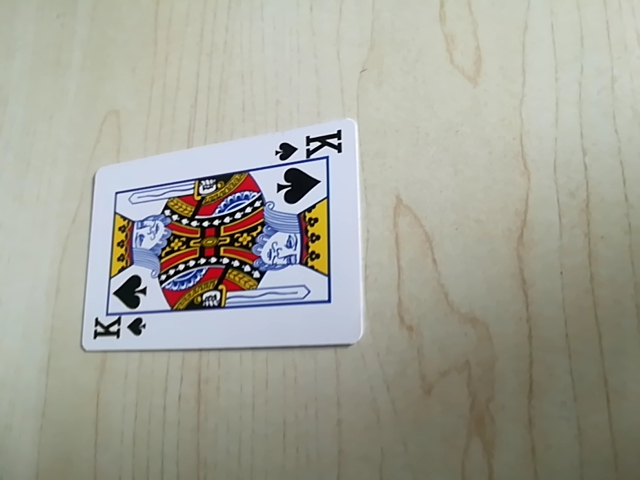ht k: (275, 129, 347, 162), (88, 312, 149, 348)
